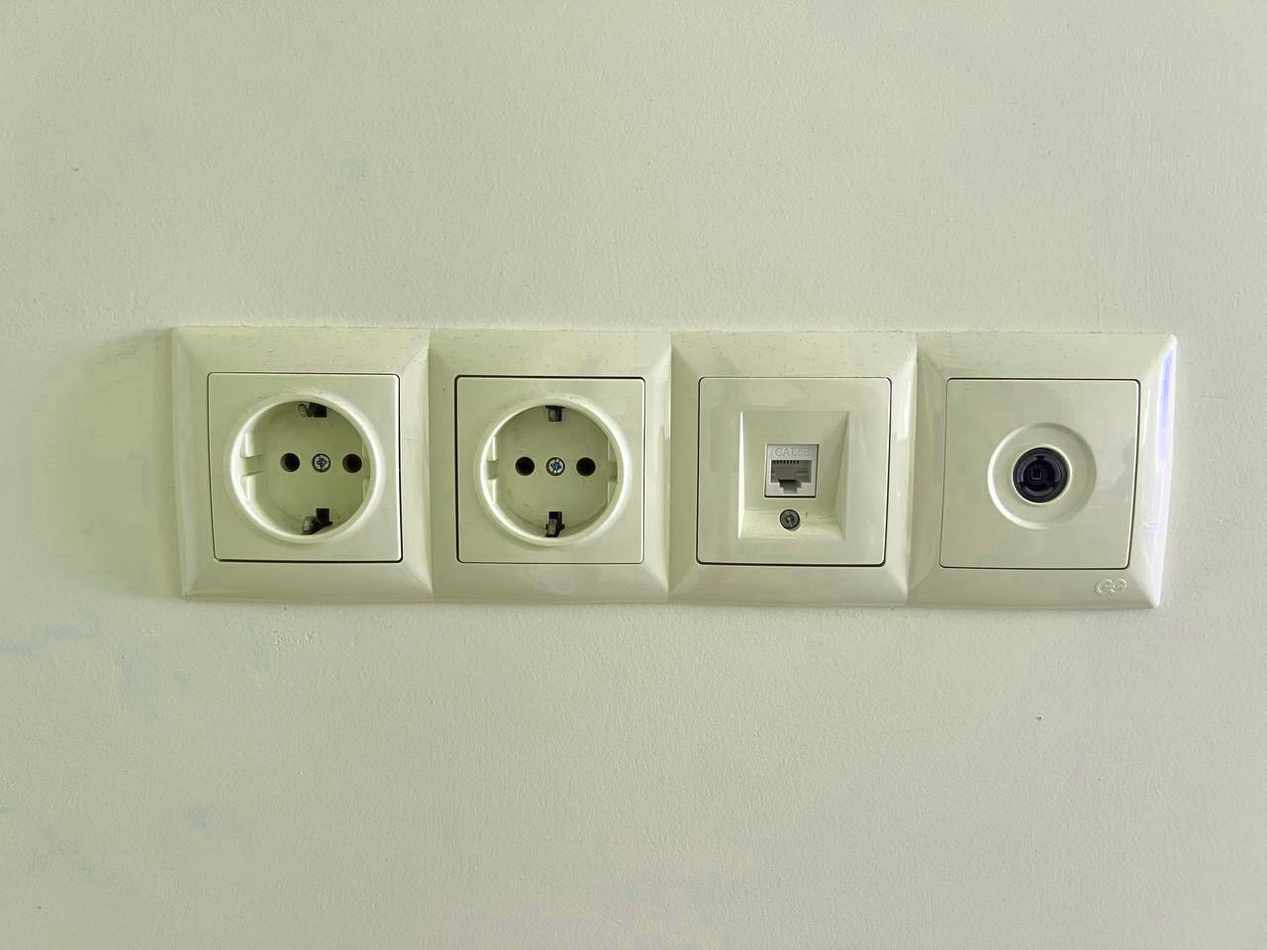Network Outlet: (729, 402, 857, 541)
Power Outlet: (467, 390, 637, 552), (221, 389, 386, 547)
TV Socket: (978, 407, 1106, 542)
